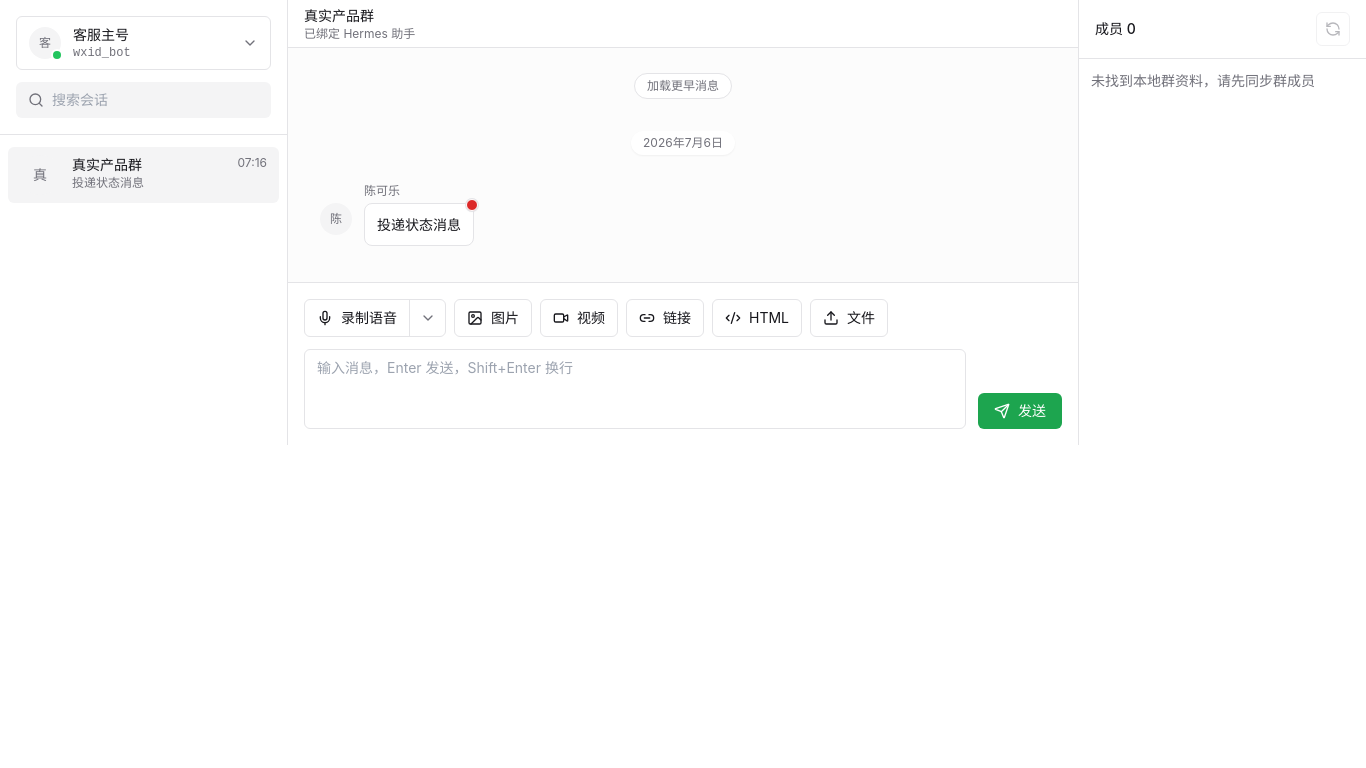
Test: WorkbenchPage message area › 消息气泡展示投递状态点，点击后打开消息详情抽屉
Expected: the text "投递状态消息" below "陈可乐" is shown, [377,216,461,233]
Click the button named "查看投递状态 failed": (472,205) [466,199,478,211]
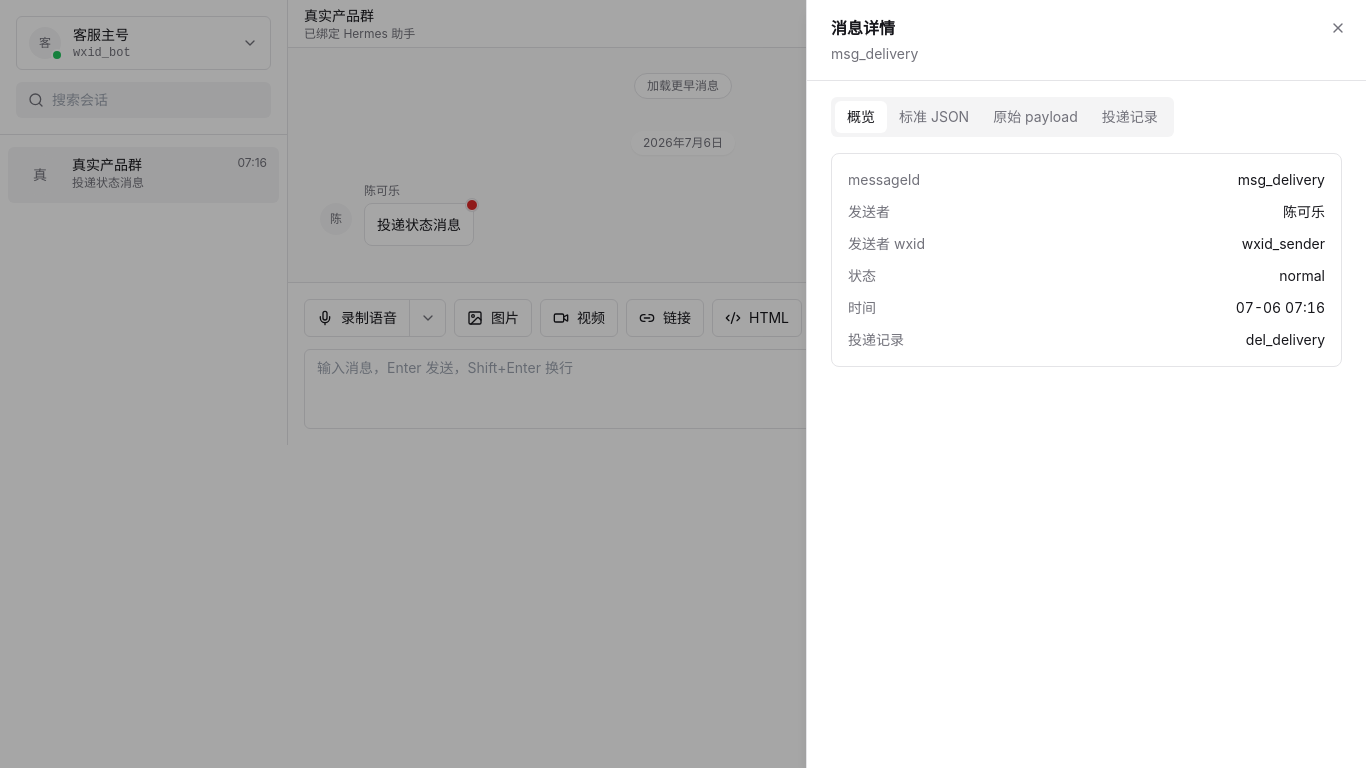
Now the text "del_delivery" is shown, box [1246,330,1325,350]
Now the tab "投递记录" is shown, box [1090,101,1170,133]
